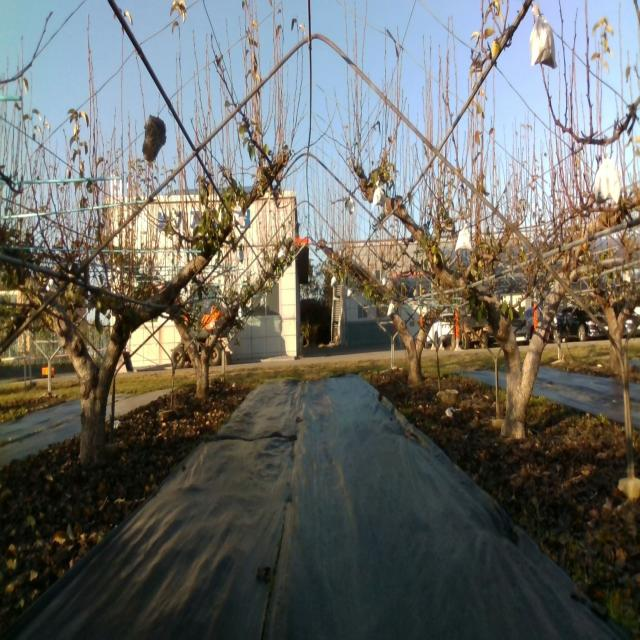pearbags: (530, 6, 558, 67), (594, 154, 622, 208), (455, 221, 473, 254), (372, 180, 385, 207), (232, 202, 245, 226)
